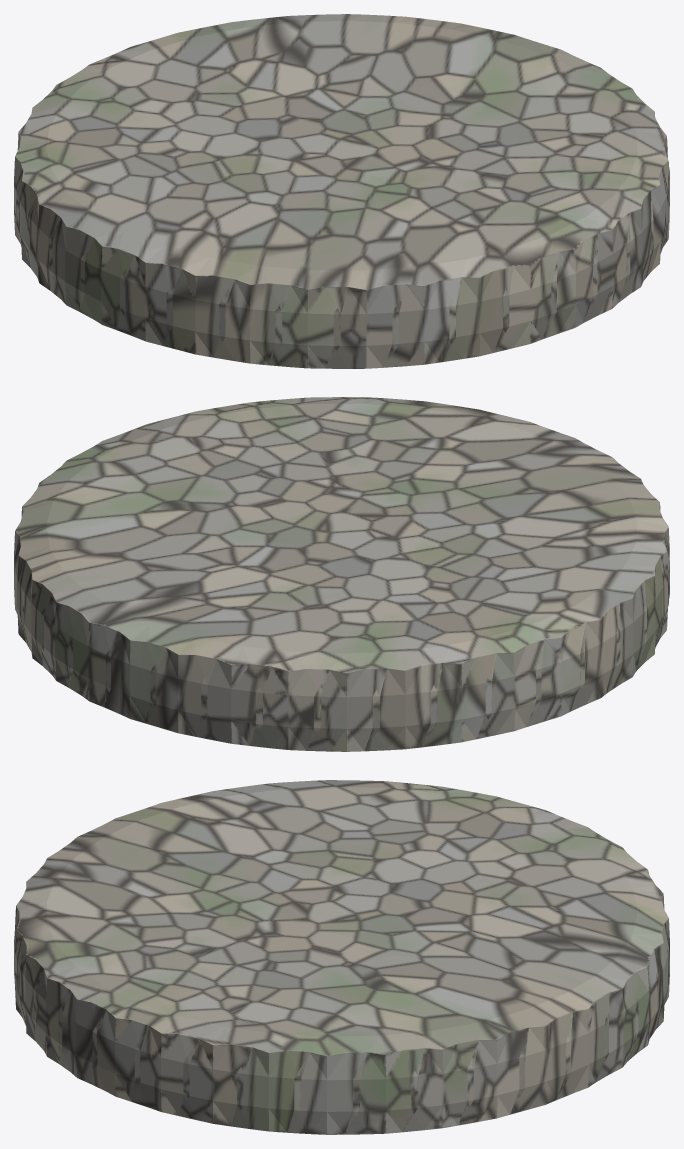
Rendered from othello_disc_moonstone_01.glb.
The picture shows the model from 3 angles, top to bottom: view 1: azimuth 30°, elevation 25°; view 2: azimuth 150°, elevation 25°; view 3: azimuth 270°, elevation 25°; orthographic projection.
Parts seen in each view (by area): view 1: disc-convcol; view 2: disc-convcol; view 3: disc-convcol.
Boxes of the visible parts, x1,y1,x2,y2 form: disc-convcol: (14,14,669,368); disc-convcol: (14,397,669,751); disc-convcol: (14,780,669,1134).
Bounding box in the file's own units: 0.0416 × 0.00642 × 0.0416.
1 material, 1 textured.
